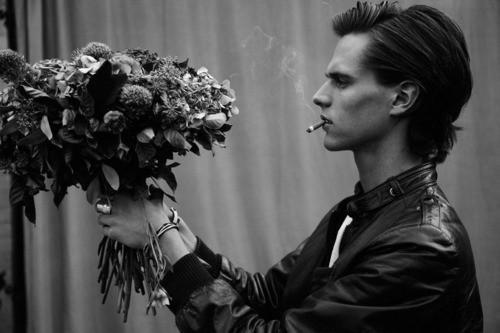people: (219, 18, 478, 311)
